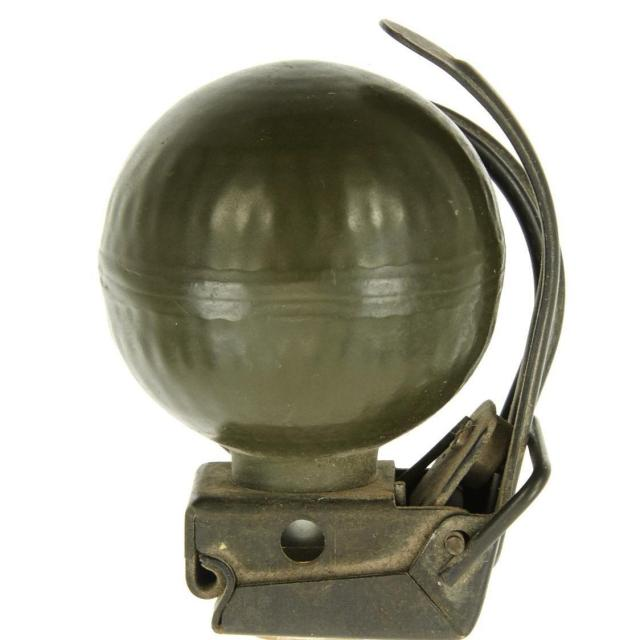grenade: (98, 21, 568, 640)
